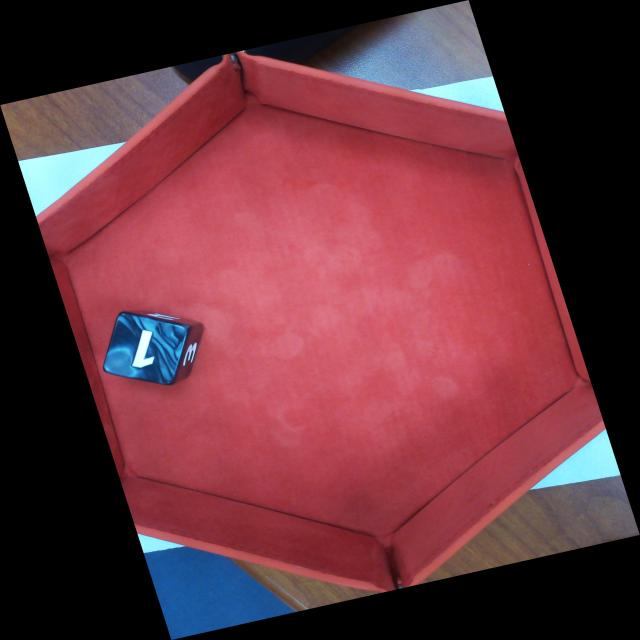dice: (101, 310, 193, 387)
